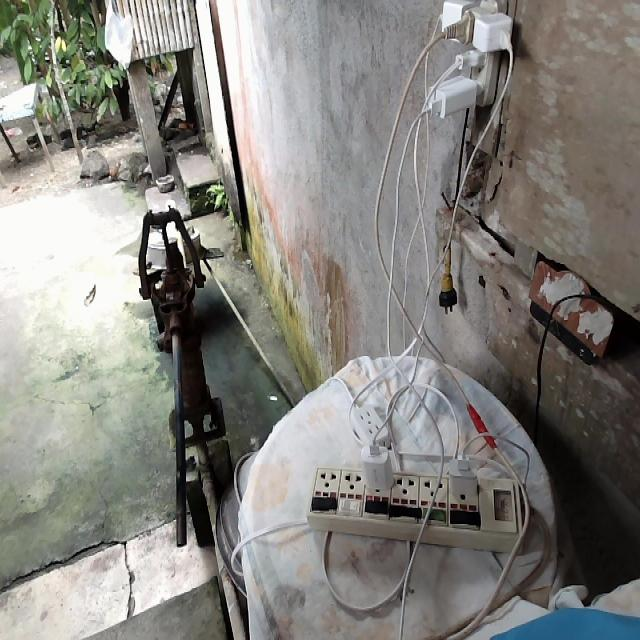-: (420, 0, 513, 117)
